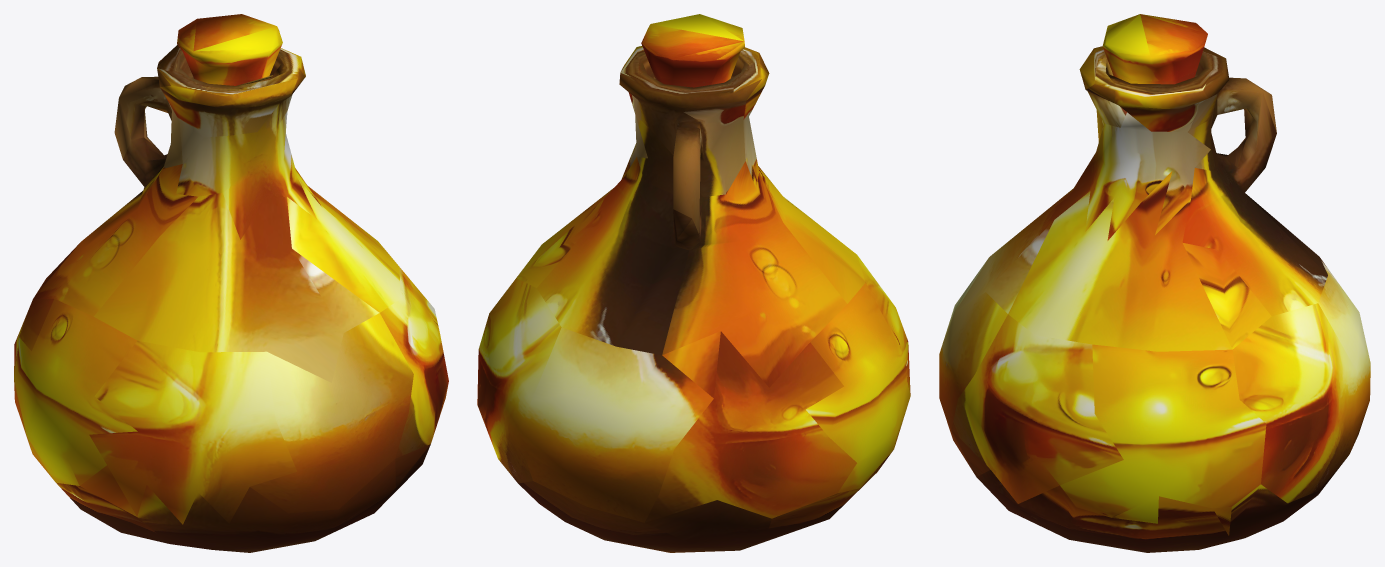
Rendered from yellow.fbx.
The picture shows the model from 3 angles, left to right: view 1: azimuth 30°, elevation 25°; view 2: azimuth 150°, elevation 25°; view 3: azimuth 270°, elevation 25°; orthographic projection.
Parts seen in each view (by area): view 1: meshes[0]; view 2: meshes[0]; view 3: meshes[0].
Part boxes in pixels (x1=…): meshes[0]: x1=14, y1=14, x2=448, y2=552; meshes[0]: x1=477, y1=14, x2=910, y2=552; meshes[0]: x1=939, y1=14, x2=1370, y2=552.
Bounding box in the file's own units: 48.68 × 59.41 × 48.46.
1 material, 1 textured.
